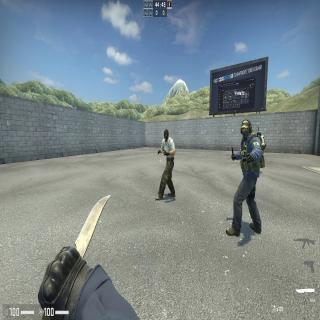CT-Body: (240, 119, 260, 234)
CT-Head: (240, 119, 252, 139)
T-Body: (160, 127, 176, 200)
T-Head: (163, 128, 169, 141)
